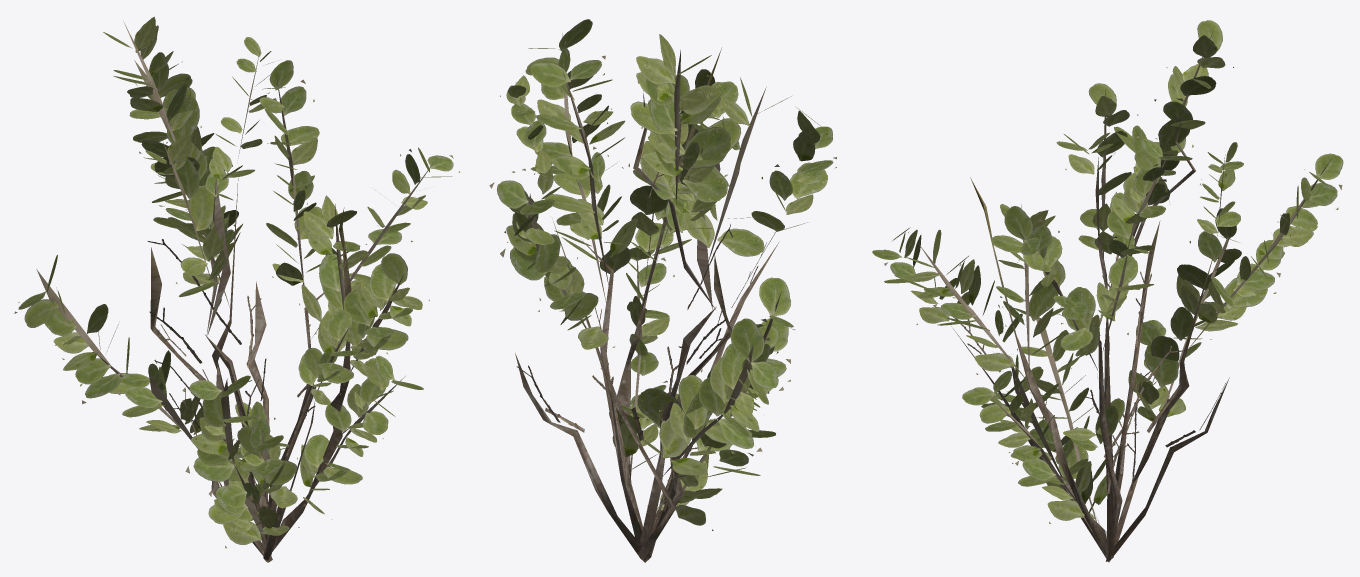
File: bush_green_f.glb
The picture shows the model from 3 angles, left to right: view 1: azimuth 30°, elevation 25°; view 2: azimuth 150°, elevation 25°; view 3: azimuth 270°, elevation 25°; orthographic projection. The views are drawn at different scales.
Parts seen in each view (by area): view 1: bush_green_f; view 2: bush_green_f; view 3: bush_green_f.
Part boxes in pixels (left/top/right/bottom): bush_green_f: left=14, top=16, right=460, bottom=562; bush_green_f: left=489, top=19, right=836, bottom=562; bush_green_f: left=872, top=20, right=1343, bottom=562.
Size of the model in its own units: 0.4924 by 0.7314 by 0.6336.
2 materials, 2 textured.
